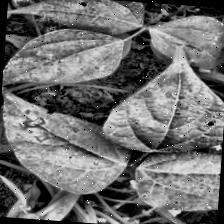ALS: (0, 94, 135, 195), (104, 51, 224, 160), (1, 25, 126, 96), (11, 0, 144, 37), (148, 11, 224, 63), (0, 84, 16, 156)
